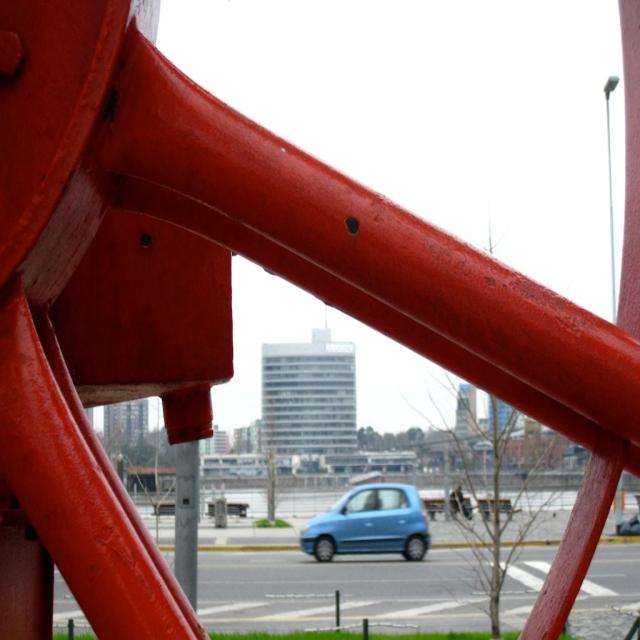car: (293, 478, 438, 565)
